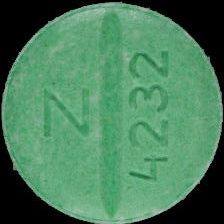35356-988: (0, 0, 224, 224)
